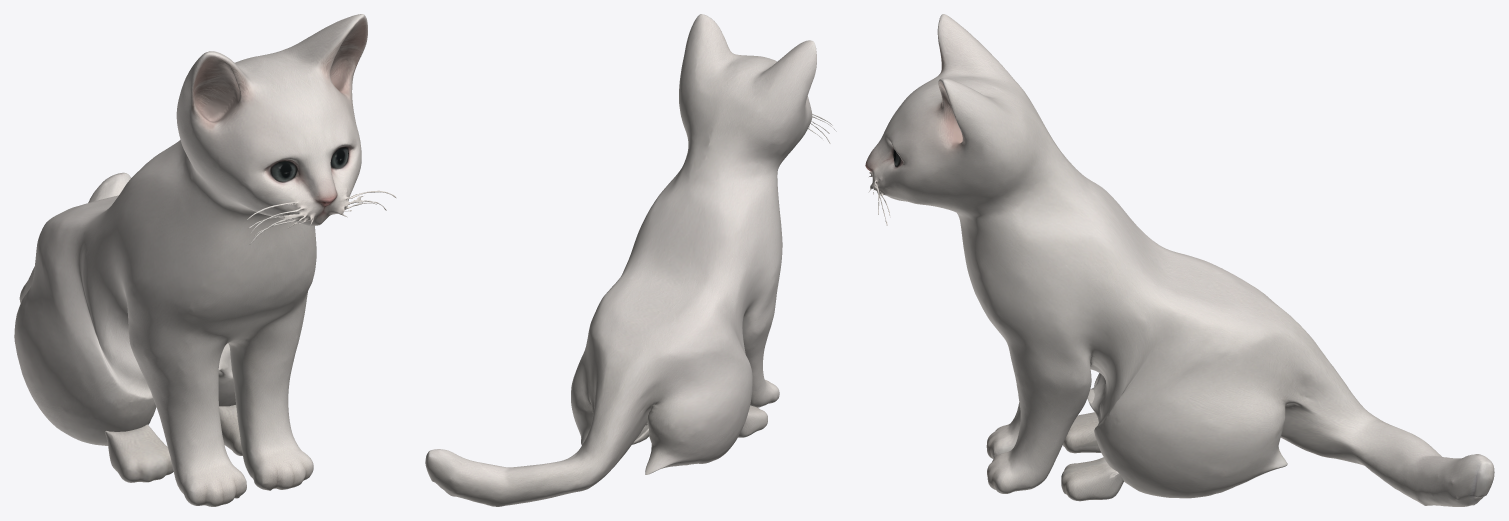
File: snowdrop-sit-static.glb
3 views of the same model, side by side, from view 1: azimuth 30°, elevation 25°; view 2: azimuth 150°, elevation 25°; view 3: azimuth 270°, elevation 25° (orthographic). The views are drawn at different scales.
Visible parts, largest first — view 1: Snowdrop_sit_static; view 2: Snowdrop_sit_static; view 3: Snowdrop_sit_static.
Boxes of the visible parts, x1,y1,x2,y2 form: Snowdrop_sit_static: (14, 14, 396, 506); Snowdrop_sit_static: (425, 14, 836, 506); Snowdrop_sit_static: (865, 14, 1494, 506).
Bounding box in the file's own units: 0.5705 × 1 × 1.34.
1 material, 1 textured.
